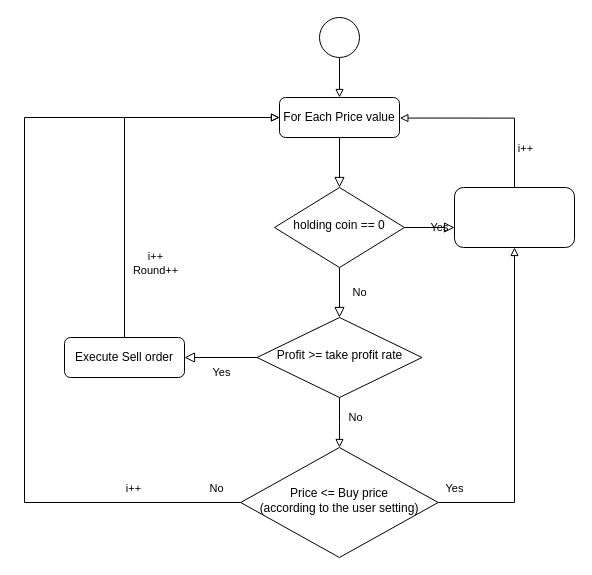
Image size: 592x575. Some labels were removed from this diagram. The shapes that lost their labels are listed below. From the top down, each one's centre as x and y in pixels, then its label:
At pixel 339 37: "Start".
At pixel 514 217: "Execute Buy order".
